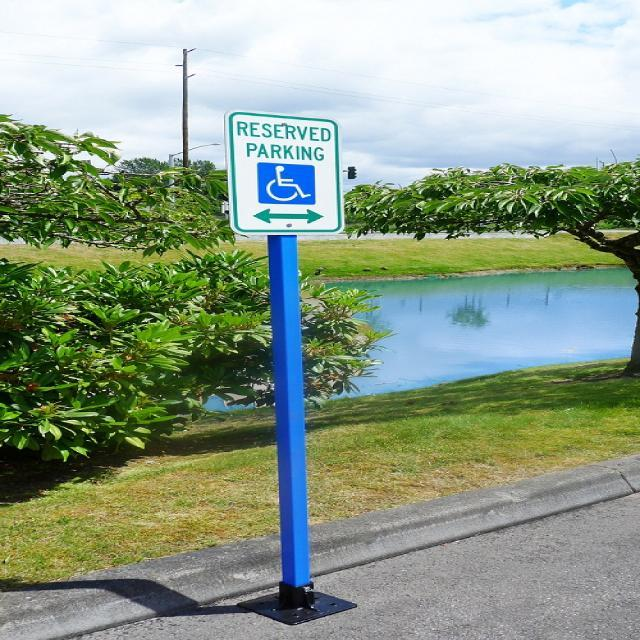symbol_of_access: (258, 162, 310, 206)
